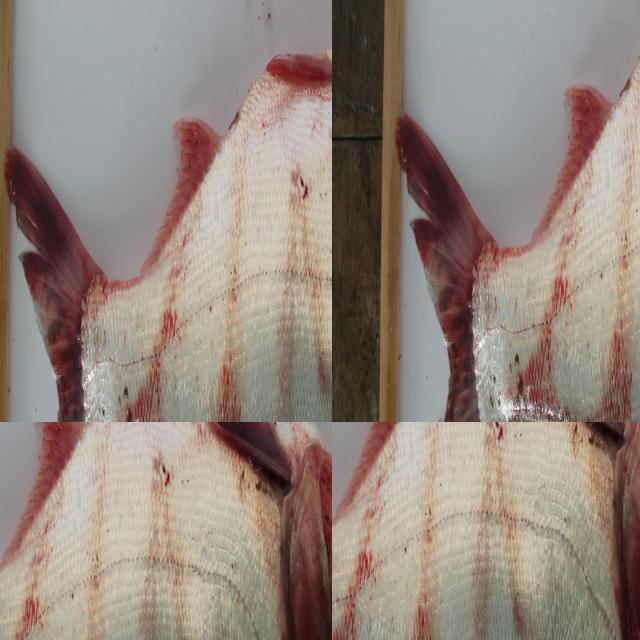fish: (0, 0, 332, 422), (332, 422, 640, 640)
